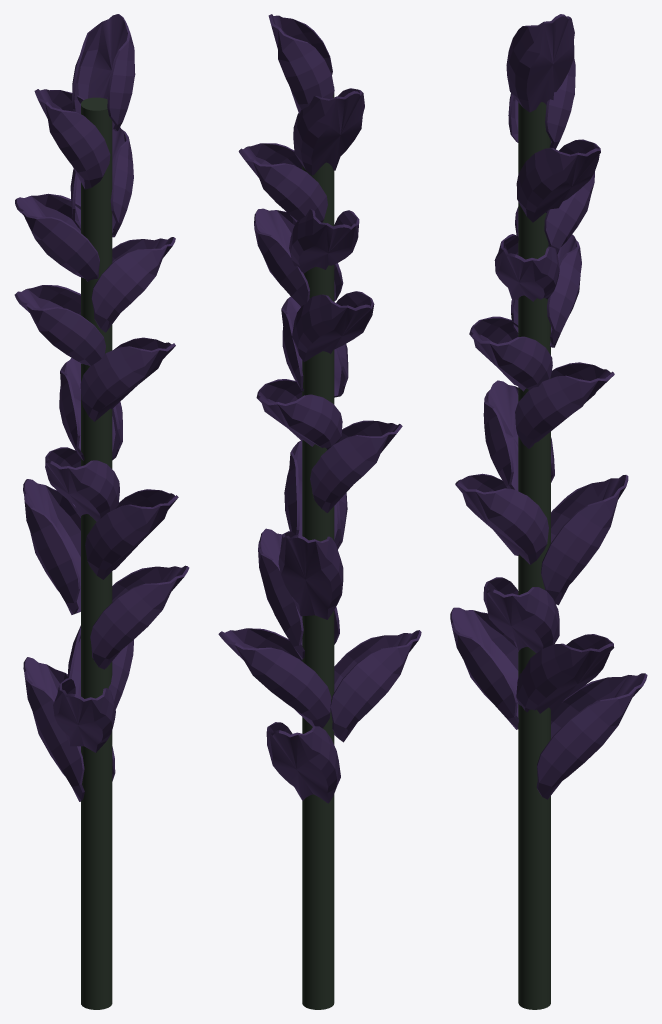
File: lavender.obj
The picture shows the model from 3 angles, left to right: view 1: azimuth 30°, elevation 25°; view 2: azimuth 150°, elevation 25°; view 3: azimuth 270°, elevation 25°; orthographic projection. The views are drawn at different scales.
Visible parts, largest first — view 1: lavender stem, petals lavender petal43, petals lavender petal44, petals lavender petal50, petals lavender petal42, petals lavender petal38, petals lavender petal39, petal36 petals lavender, petals lavender petal37, petals lavender petal49, petals lavender petal47, petals lavender petal41 (+4 smaller); view 2: lavender stem, petals lavender petal45, petals lavender petal46, petals lavender petal43, petals lavender petal49, petals lavender petal41, petals lavender petal47, petals lavender petal38, petals lavender petal50, petals lavender petal48, petals lavender petal40, petals lavender petal37 (+4 smaller); view 3: lavender stem, petals lavender petal47, petals lavender petal43, petals lavender petal50, petals lavender petal46, petals lavender petal45, petals lavender petal42, petals lavender petal48, petals lavender petal40, petals lavender petal44, petals lavender petal39, petals lavender petal41 (+4 smaller).
Boxes of the visible parts, x1,y1,x2,y2 form: lavender stem: (81,97,112,1009); petals lavender petal43: (23,479,80,614); petals lavender petal44: (90,565,189,669); petals lavender petal50: (72,14,135,131); petals lavender petal42: (85,489,178,579); petals lavender petal38: (14,285,105,365); petals lavender petal39: (80,337,175,421); petal36 petals lavender: (91,237,175,332); petals lavender petal37: (15,193,99,281); petals lavender petal49: (34,89,110,189); petals lavender petal47: (23,657,115,801); petals lavender petal41: (45,447,119,521); lavender stem: (302,87,334,1009); petals lavender petal45: (218,628,331,728); petals lavender petal46: (330,630,421,742); petals lavender petal43: (278,531,343,619); petals lavender petal49: (293,88,364,175); petals lavender petal41: (310,420,402,512); petals lavender petal47: (266,722,340,803); petals lavender petal38: (292,291,374,361); petals lavender petal50: (268,14,334,113); petals lavender petal48: (238,143,327,222); petals lavender petal40: (256,379,342,449); petals lavender petal37: (289,209,359,273); lavender stem: (518,102,550,1009); petals lavender petal47: (536,673,647,799); petals lavender petal43: (541,475,628,605); petals lavender petal50: (506,14,574,112); petals lavender petal46: (450,607,518,729); petals lavender petal45: (516,634,614,714); petals lavender petal42: (455,473,548,564); petals lavender petal48: (516,139,600,222); petals lavender petal40: (515,362,614,448); petals lavender petal44: (483,577,559,652); petals lavender petal39: (469,316,552,391); petals lavender petal41: (483,380,554,490).
Bounding box in the file's own units: 0.416 × 2.78 × 0.4936.
